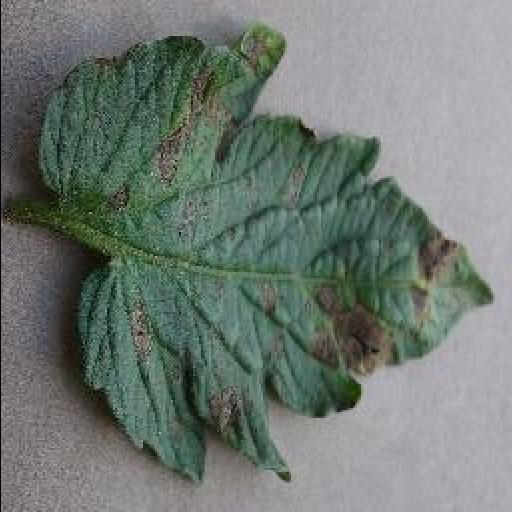disease_tomato: (42, 22, 496, 480)
